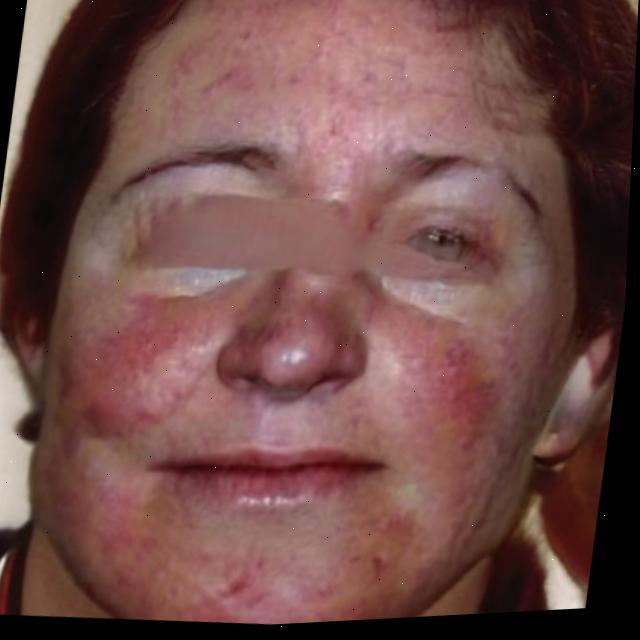Rosacea: (38, 458, 446, 637), (183, 0, 425, 170), (69, 300, 217, 437), (399, 310, 515, 437)
